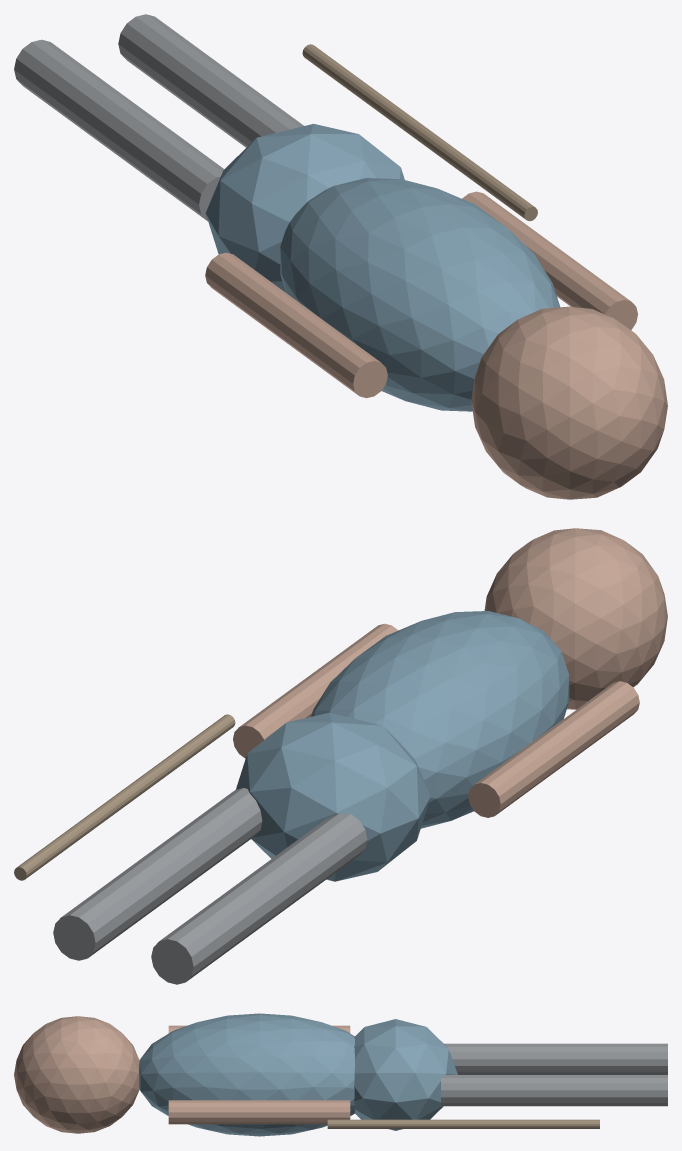
Rendered from older-medium.glb.
3 renders of one model, top to bottom at view 1: azimuth 30°, elevation 25°; view 2: azimuth 150°, elevation 25°; view 3: azimuth 270°, elevation 25°, orthographic. The views are drawn at different scales.
Visible parts, largest first — view 1: torso, head, pelvis, left_leg, right_leg, left_arm, right_arm, cane; view 2: torso, head, pelvis, left_leg, right_leg, left_arm, right_arm, cane; view 3: torso, head, pelvis, right_leg, left_leg, right_arm, cane.
Part boxes in pixels (<box>): torso: <box>280,178,560,411</box>; head: <box>471,306,667,499</box>; pelvis: <box>205,123,404,292</box>; left_leg: <box>14,39,224,221</box>; right_leg: <box>118,14,303,147</box>; left_arm: <box>205,252,387,398</box>; right_arm: <box>462,191,637,330</box>; cane: <box>302,44,537,221</box>; torso: <box>311,611,569,828</box>; head: <box>484,528,667,709</box>; pelvis: <box>236,712,430,881</box>; left_leg: <box>151,813,367,984</box>; right_leg: <box>53,788,262,960</box>; left_arm: <box>468,681,639,817</box>; right_arm: <box>233,623,398,758</box>; cane: <box>14,714,235,880</box>; torso: <box>139,1013,354,1136</box>; head: <box>14,1016,139,1133</box>; pelvis: <box>354,1019,457,1130</box>; right_leg: <box>441,1075,667,1106</box>; left_leg: <box>444,1043,667,1074</box>; right_arm: <box>168,1100,350,1124</box>; cane: <box>327,1119,599,1128</box>.
Bounding box in the file's own units: 1.16 × 0.616 × 3.4.
